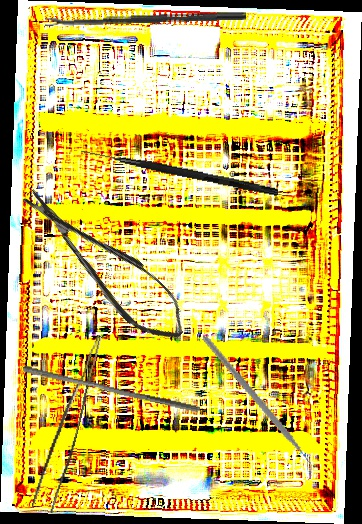Chopper: (171, 335, 343, 480)
Hook Surgical: (79, 147, 280, 197)
Micro Scissor: (14, 172, 197, 355)
Pusher: (21, 364, 202, 414)
Surgical Spoon: (44, 10, 247, 27)
Tissue Forceps: (31, 329, 102, 515)
